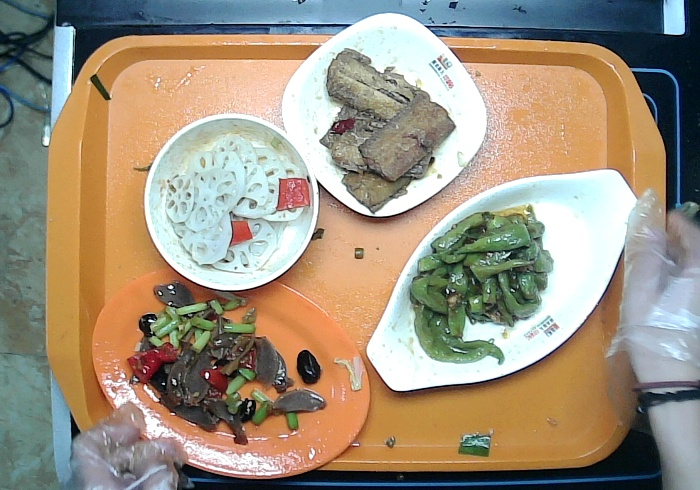NLDX-Bai_Se_Xiao_Fang_Die: (274, 9, 491, 223)
NLDX-Fan_Wan: (140, 109, 323, 297)
NLDX-Ju_Se_Pan: (87, 263, 377, 484)
NLDX-Yu_Pan: (363, 158, 640, 394)
